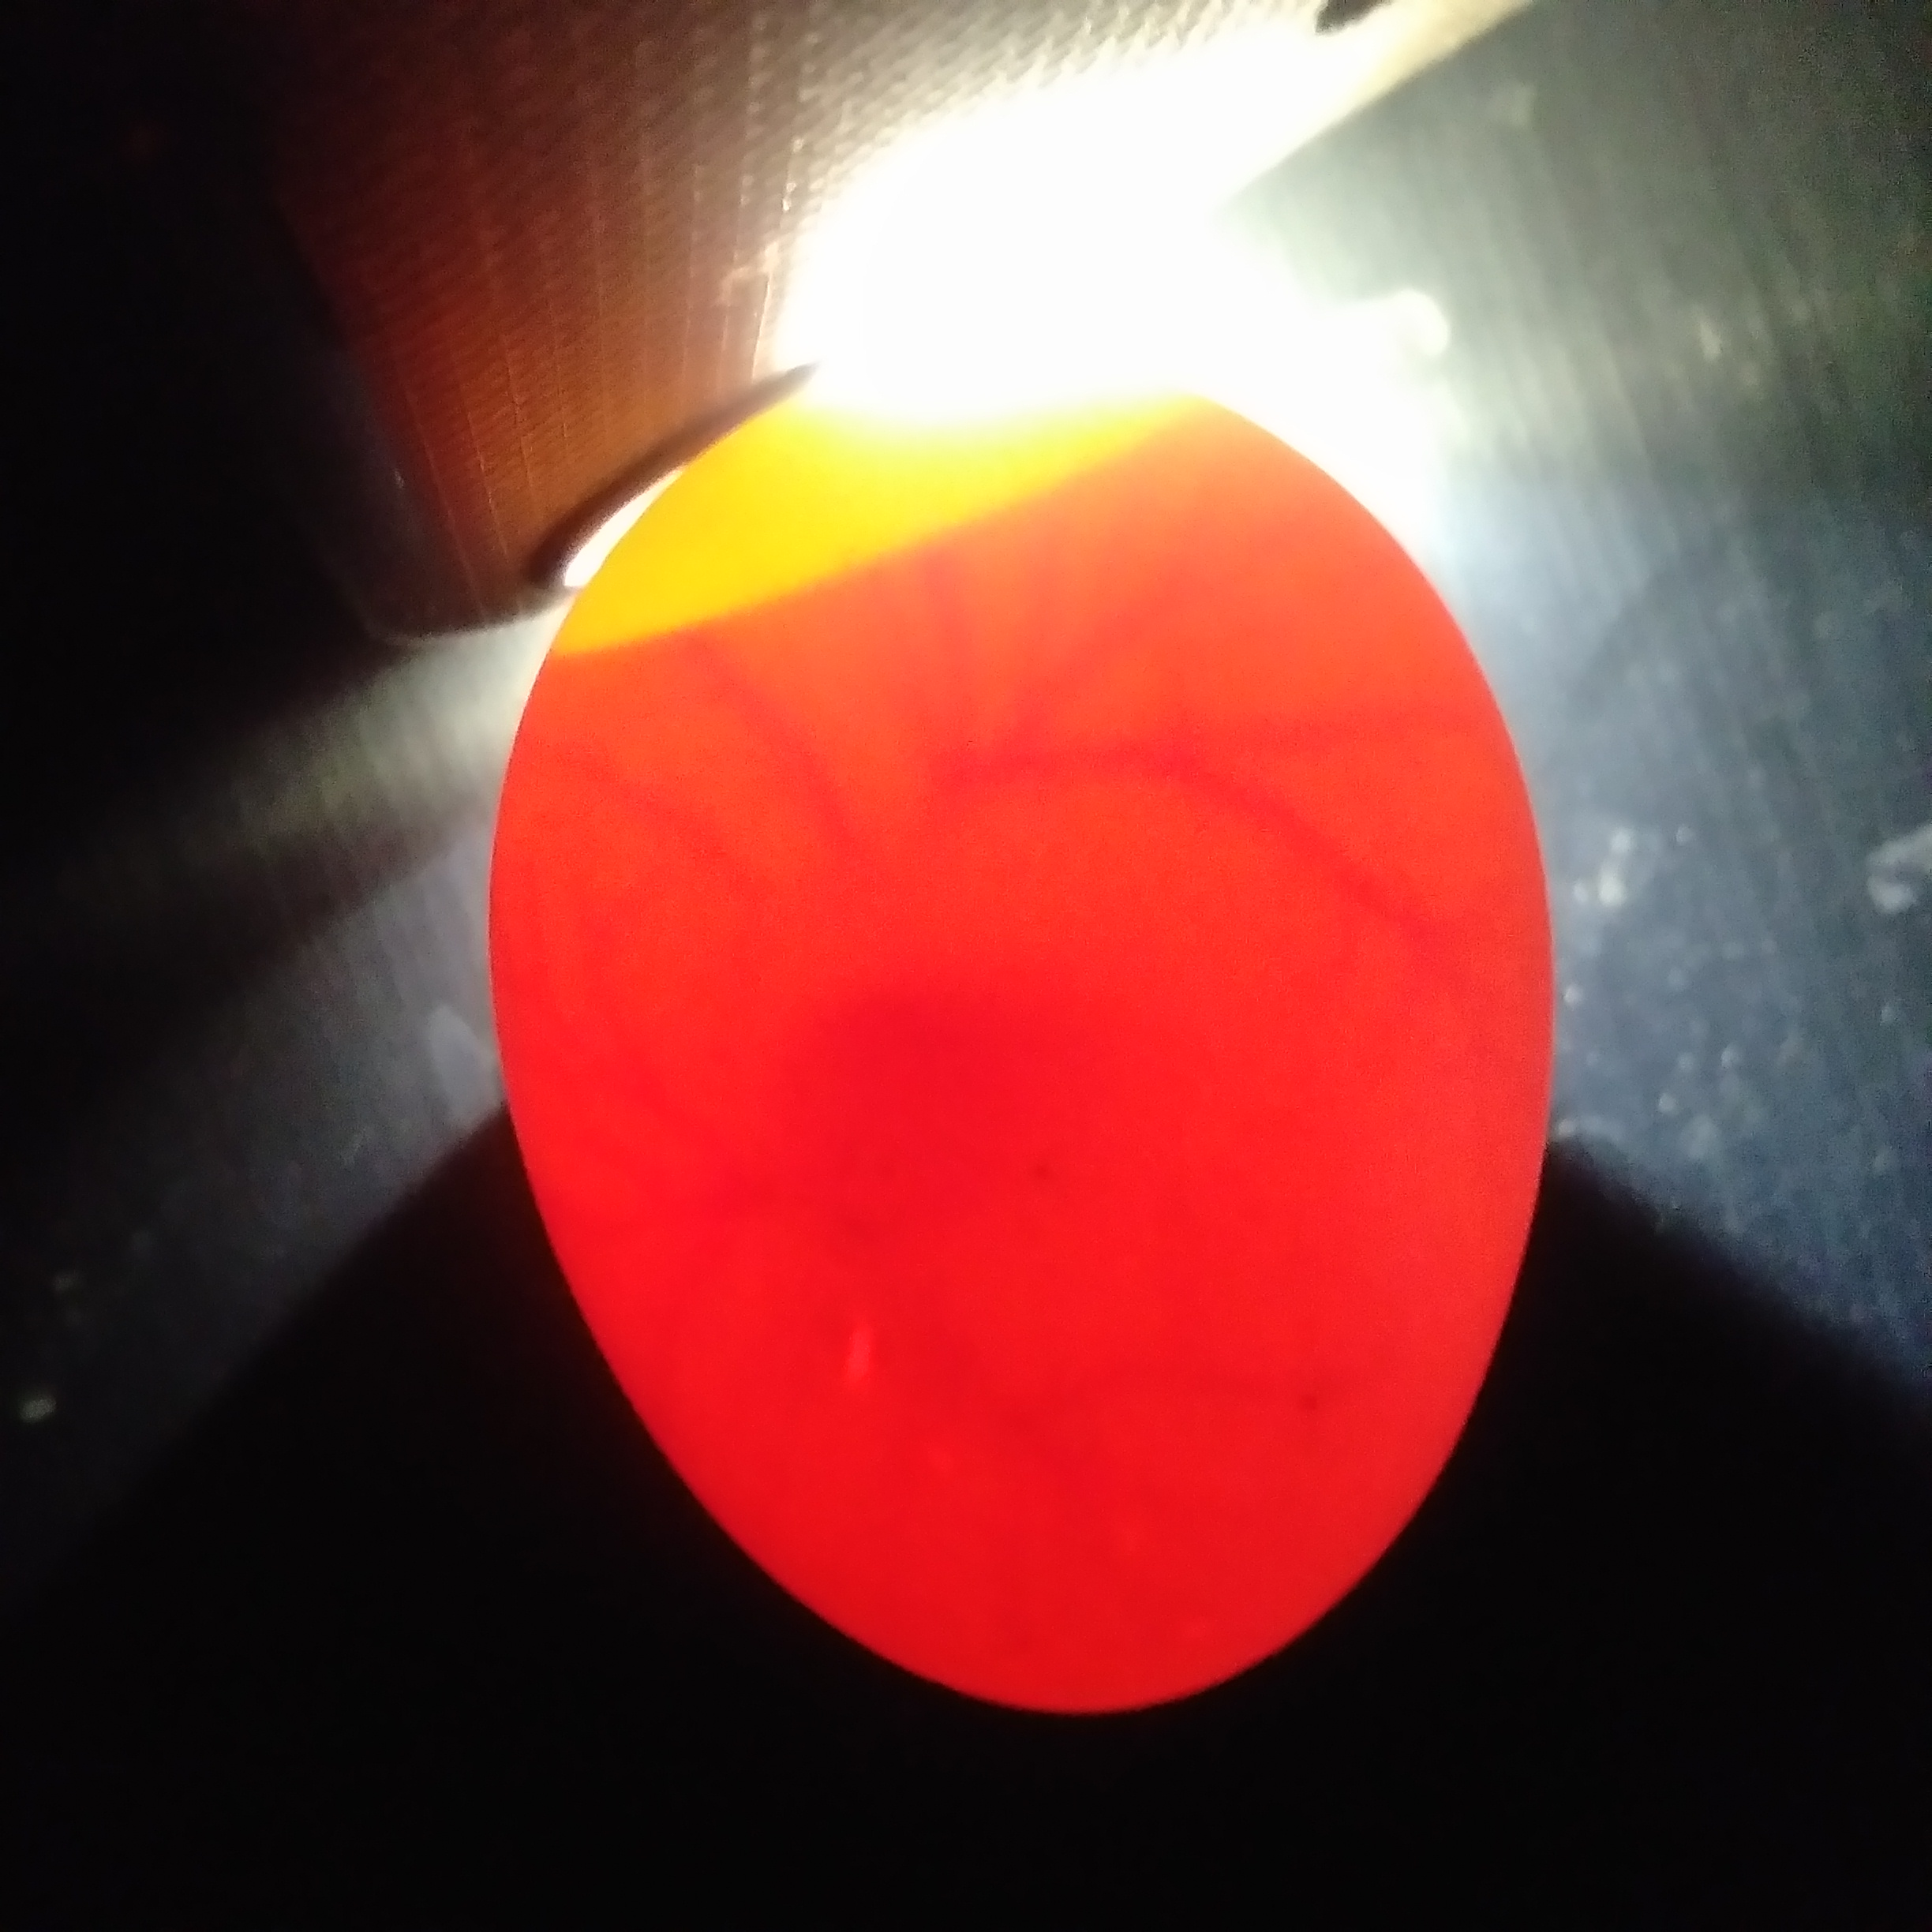bloodcell: (594, 706, 1355, 913), (909, 556, 1426, 676)
embryo: (761, 964, 1007, 1208)
